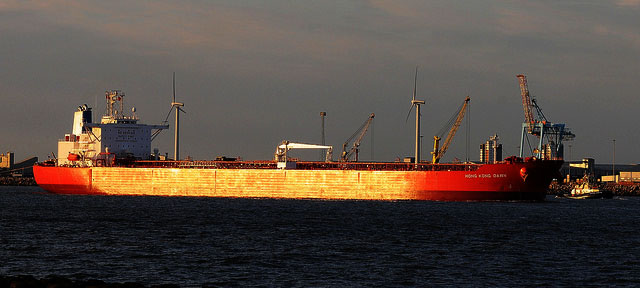tanker: (31, 88, 560, 200)
tug_boat: (564, 154, 607, 200)
